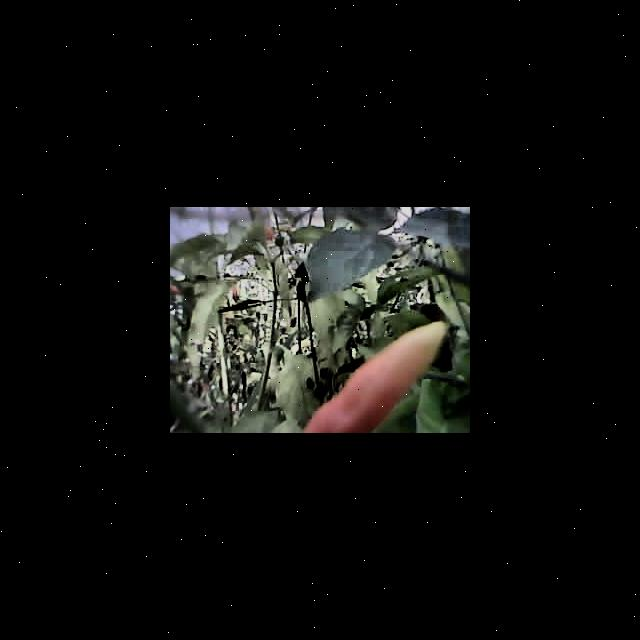Cabai: (313, 319, 437, 433)
